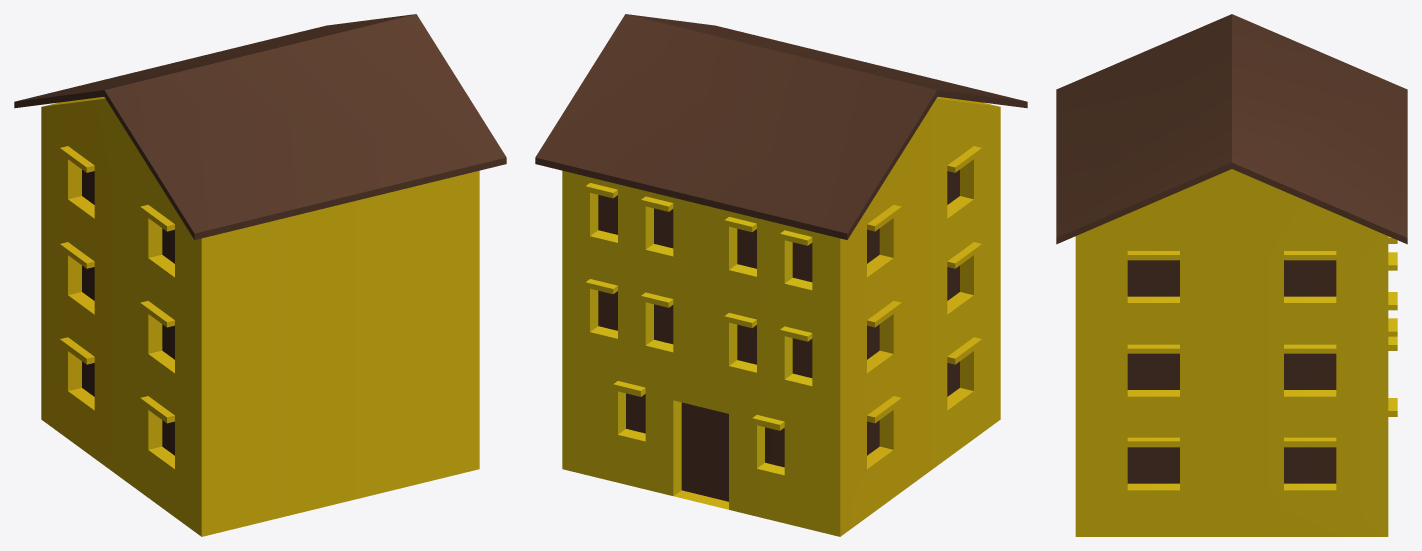
The model's file is building 1.fbx.
The picture shows the model from 3 angles, left to right: view 1: azimuth 30°, elevation 25°; view 2: azimuth 150°, elevation 25°; view 3: azimuth 270°, elevation 25°; orthographic projection. The views are drawn at different scales.
Parts seen in each view (by area): view 1: Cube.023; view 2: Cube.023; view 3: Cube.023.
Boxes of the visible parts, box(x1,y1,x2,y2) form: Cube.023: box(14, 14, 506, 536); Cube.023: box(535, 14, 1027, 536); Cube.023: box(1056, 14, 1407, 536).
Bounding box in the file's own units: 33.91 × 40.73 × 33.91.
Materials: 1 (1 with a texture image).
